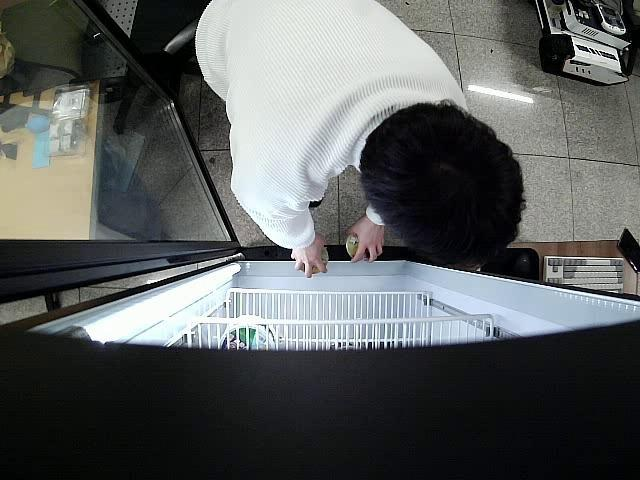04_chapagetti_S: (296, 245, 328, 275), (344, 233, 364, 257)
